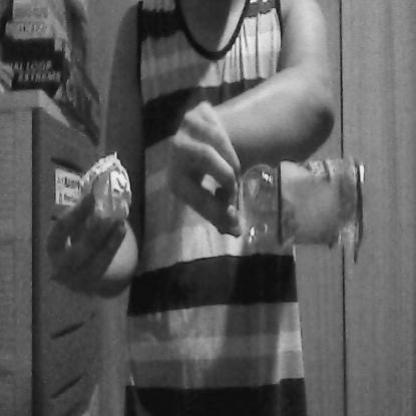Plastic Bottle: (208, 153, 373, 259)
